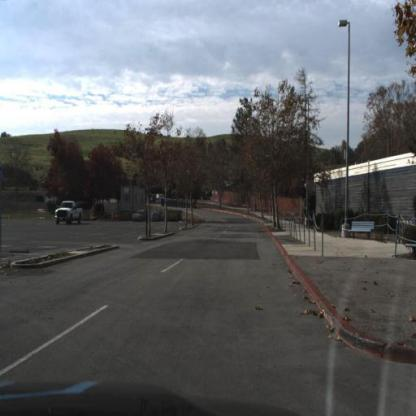car: (51, 199, 85, 229)
